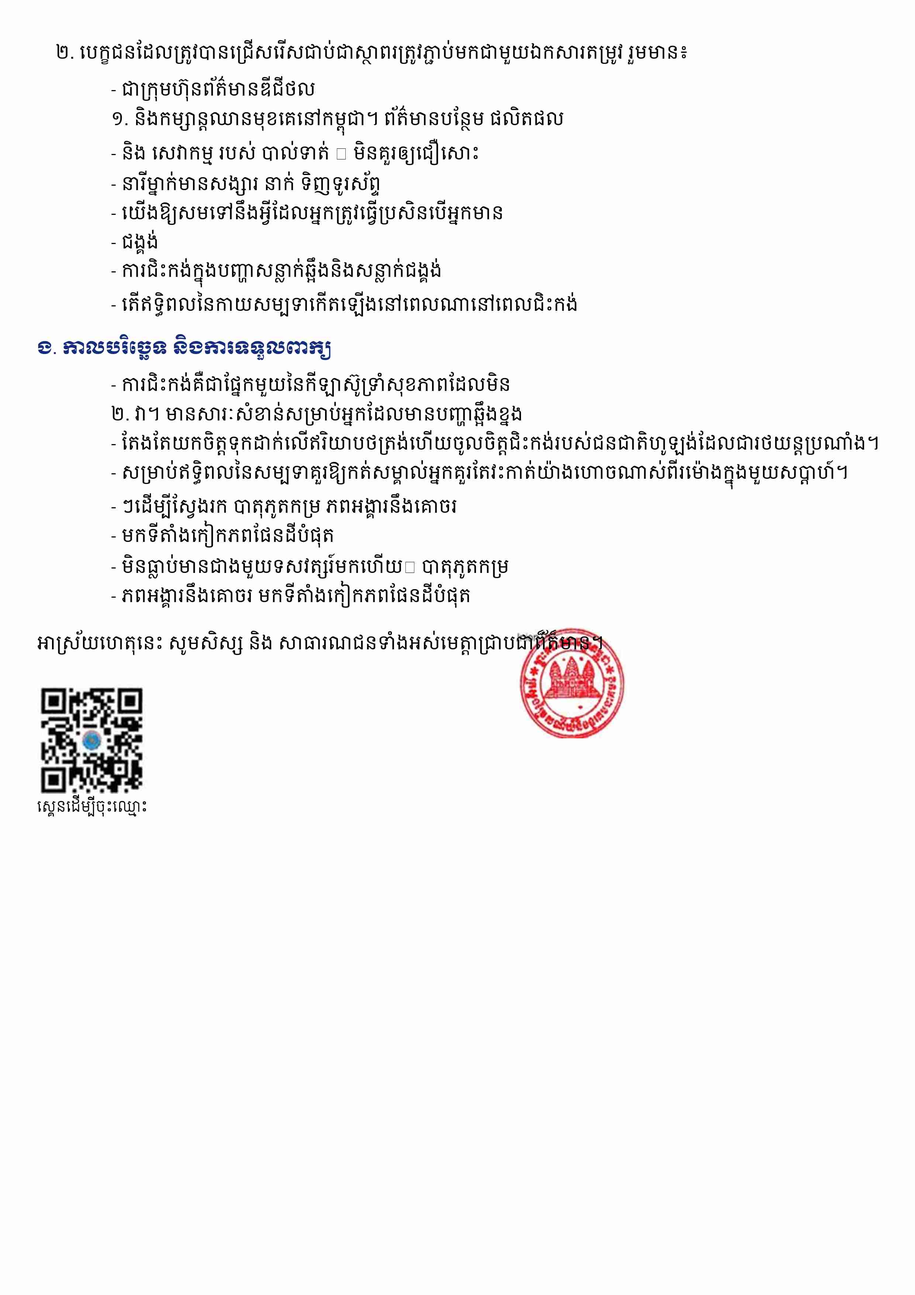decorative: (37, 683, 148, 794), (517, 628, 627, 738)
text: (111, 459, 849, 490), (111, 430, 880, 456), (55, 39, 689, 65), (37, 630, 604, 655), (111, 105, 564, 136), (111, 291, 579, 317), (111, 371, 511, 397), (111, 553, 510, 579), (111, 401, 523, 426), (111, 257, 442, 288), (111, 138, 480, 165), (111, 200, 504, 225), (111, 581, 471, 608), (111, 493, 458, 519), (37, 334, 331, 360), (111, 171, 381, 196), (111, 521, 335, 548), (111, 76, 315, 102), (37, 794, 148, 817), (111, 230, 159, 254)
